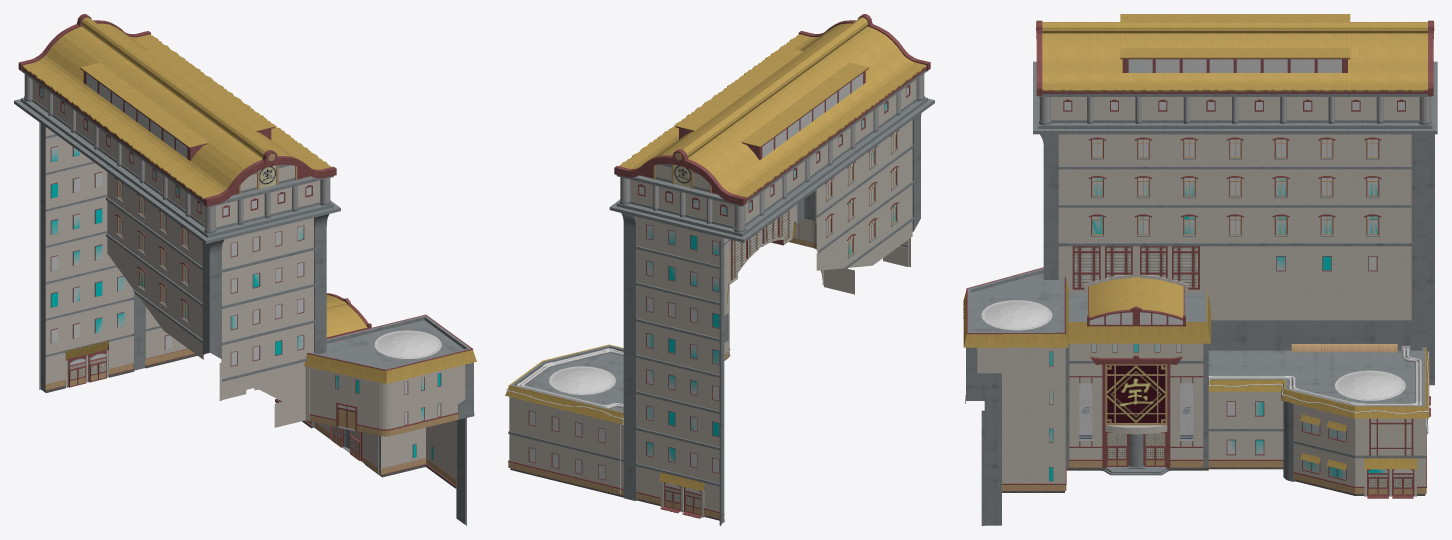
Rendered from SM_ENV_KNVLLG_AreaF_Building_A_Part01.fbx.
3 renders of one model, left to right at view 1: azimuth 30°, elevation 25°; view 2: azimuth 150°, elevation 25°; view 3: azimuth 270°, elevation 25°, orthographic. The views are drawn at different scales.
Parts seen in each view (by area): view 1: SM_ENV_KNVLLG_AreaF_Building_A_Part01.mo; view 2: SM_ENV_KNVLLG_AreaF_Building_A_Part01.mo; view 3: SM_ENV_KNVLLG_AreaF_Building_A_Part01.mo.
Part boxes in pixels (x1,y1,x2,y2): SM_ENV_KNVLLG_AreaF_Building_A_Part01.mo: [14, 14, 476, 525]; SM_ENV_KNVLLG_AreaF_Building_A_Part01.mo: [505, 14, 934, 525]; SM_ENV_KNVLLG_AreaF_Building_A_Part01.mo: [963, 14, 1437, 525].
Size of the model in its own units: 8670 by 13325 by 13713.
